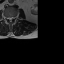CCS_normal: (10, 14, 11, 23)
LFS_normal: (13, 15, 15, 20)
LLS_normal: (11, 14, 13, 21)
RFS_normal: (6, 15, 8, 21)
RLS_normal: (8, 15, 10, 21)
